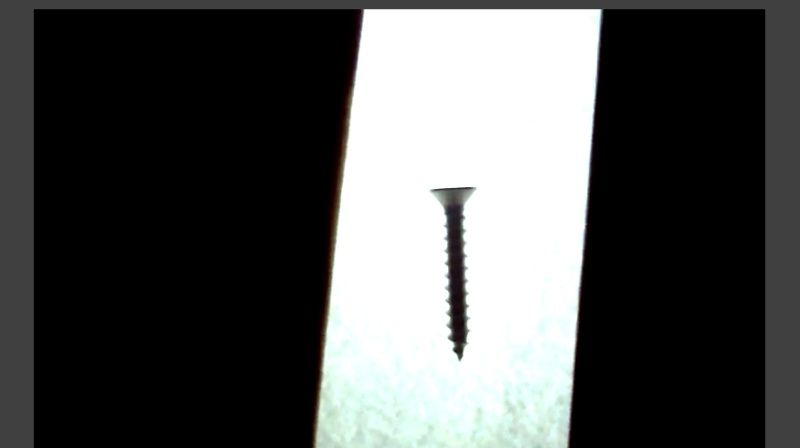S001: (428, 182, 478, 364)
